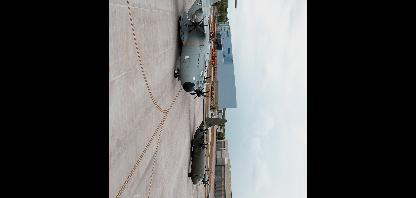A400M: (174, 0, 243, 100)
Be200: (188, 97, 228, 197)
C2: (194, 171, 237, 197)
